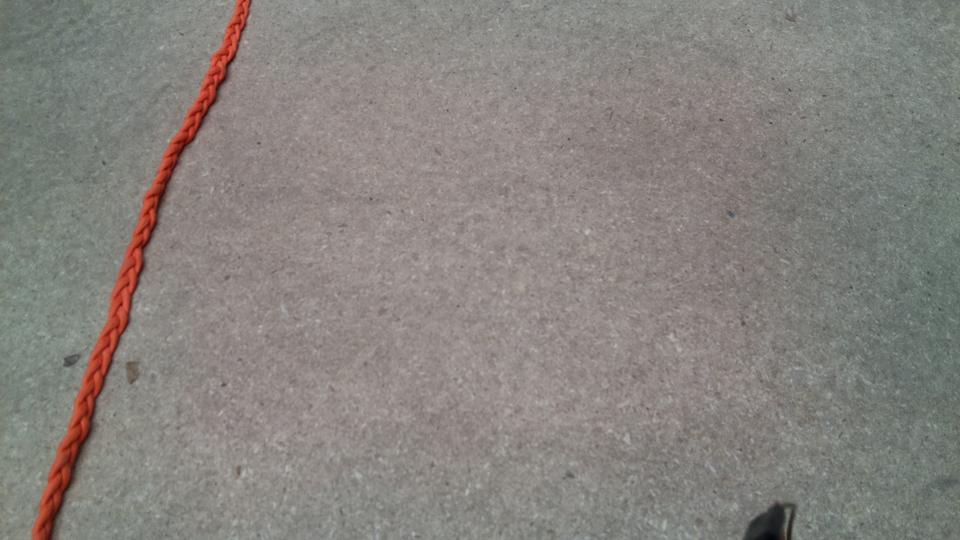rope: (27, 2, 256, 540)
